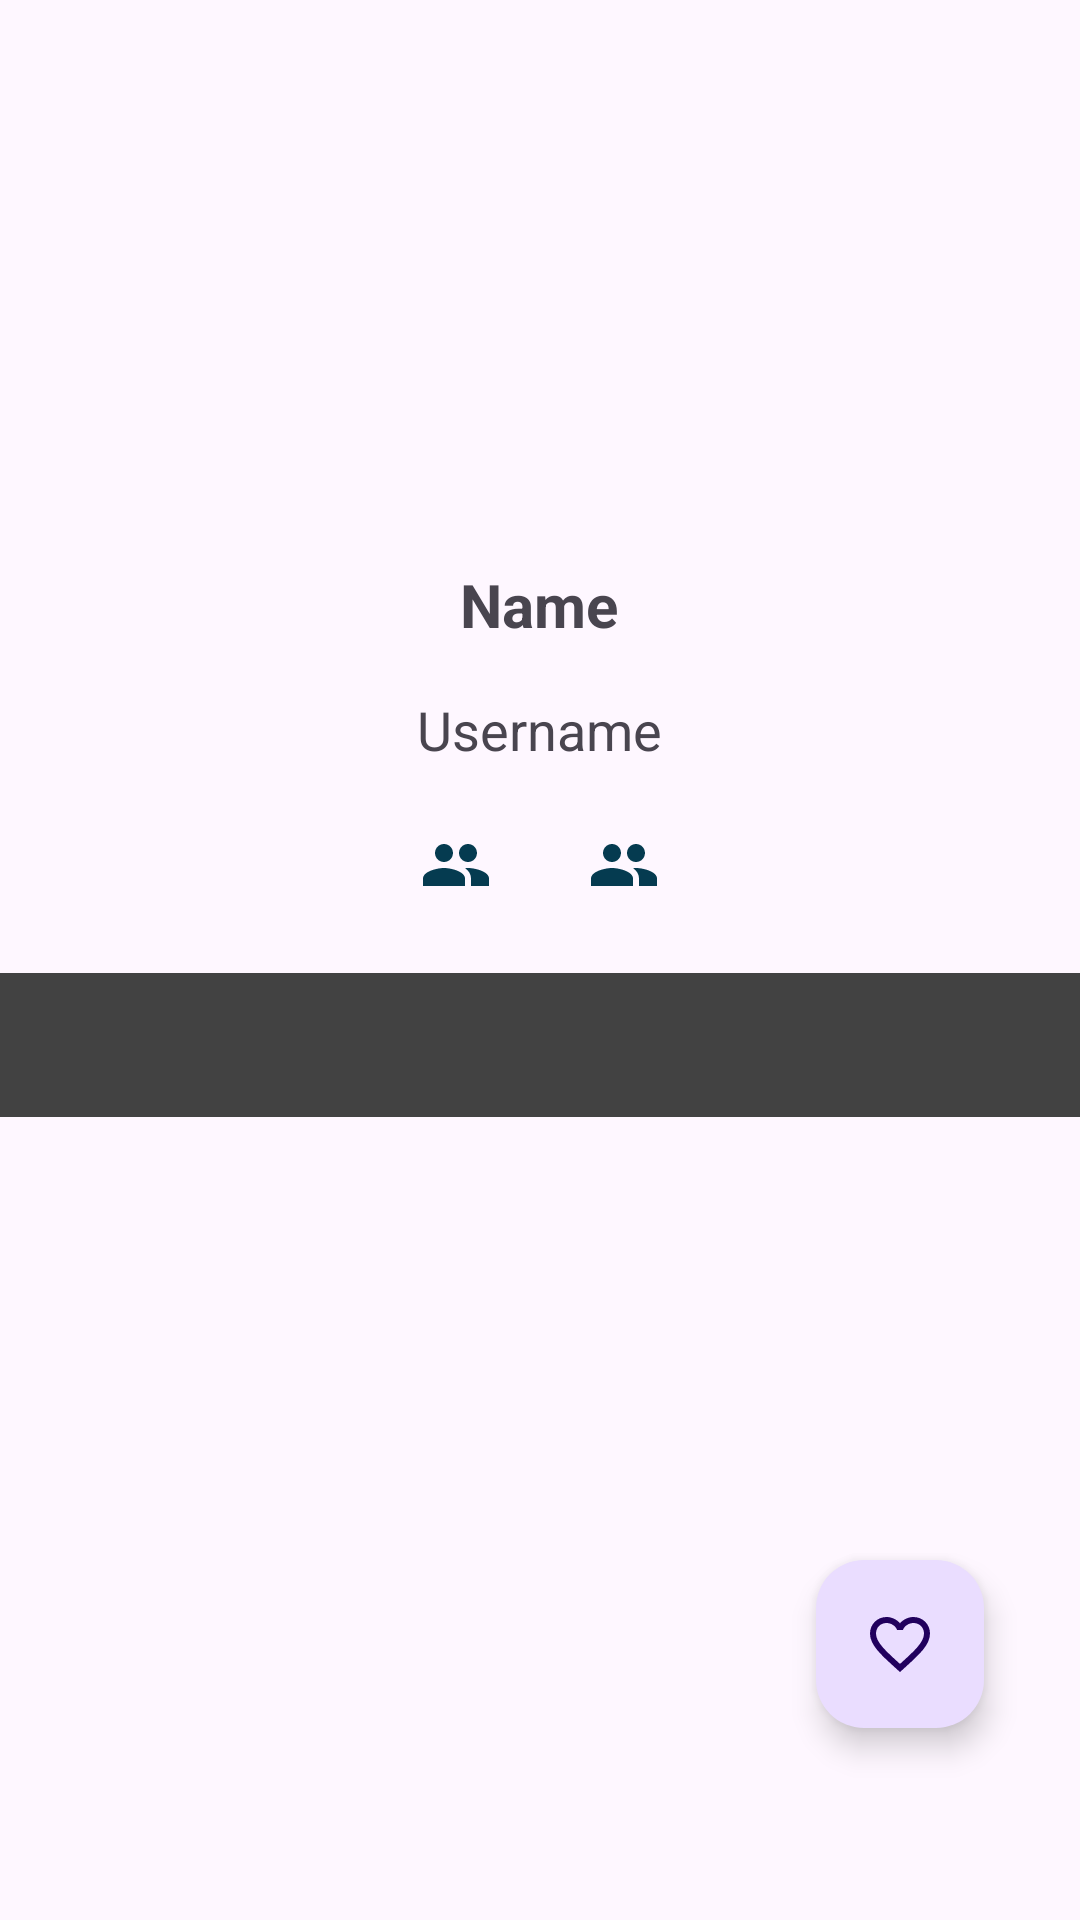

Where to tap for icons on this 1080*1920 app screen, as [x,y]:
favorite border: [900,1644]
